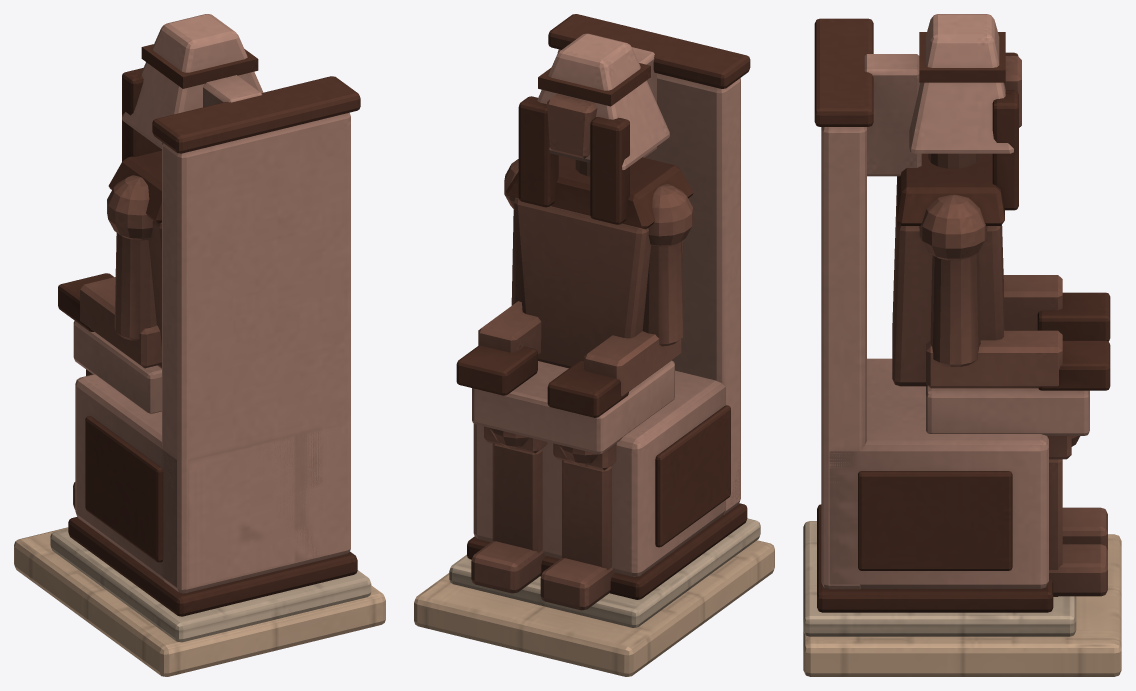
File: statue_seated.glb
3 views of the same model, side by side, from view 1: azimuth 30°, elevation 25°; view 2: azimuth 150°, elevation 25°; view 3: azimuth 270°, elevation 25° (orthographic). The views are drawn at different scales.
Visible parts, largest first — view 1: statue_seated_granodiorite_lit, statue_seated_granodiorite_deep, statue_seated_limestone_tomb, statue_seated_granodiorite, statue_seated_limestone_cap; view 2: statue_seated_granodiorite_lit, statue_seated_granodiorite, statue_seated_granodiorite_deep, statue_seated_limestone_tomb, statue_seated_limestone_cap; view 3: statue_seated_granodiorite_lit, statue_seated_granodiorite_deep, statue_seated_granodiorite, statue_seated_limestone_tomb, statue_seated_limestone_cap.
Part boxes in pixels (x1,y1,x2,y2): statue_seated_granodiorite_lit: (73,14,350,593); statue_seated_granodiorite_deep: (58,44,360,616); statue_seated_limestone_tomb: (14,527,385,676); statue_seated_granodiorite: (73,175,161,509); statue_seated_limestone_cap: (50,528,371,642); statue_seated_granodiorite_lit: (472,33,740,576); statue_seated_granodiorite: (471,94,692,610); statue_seated_granodiorite_deep: (456,14,750,599); statue_seated_limestone_tomb: (414,540,774,676); statue_seated_limestone_cap: (449,518,760,627); statue_seated_granodiorite_lit: (821,14,1089,589); statue_seated_granodiorite_deep: (814,18,1110,612); statue_seated_granodiorite: (892,56,1107,596); statue_seated_limestone_tomb: (803,534,1121,676); statue_seated_limestone_cap: (803,521,1076,636).
Bounding box in the file's own units: 0.6 × 1.45 × 0.7.
5 materials, 5 textured.
